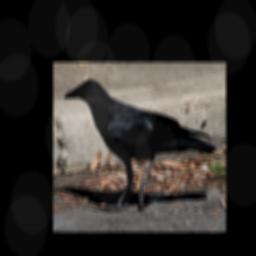Crow: (63, 76, 215, 210)
